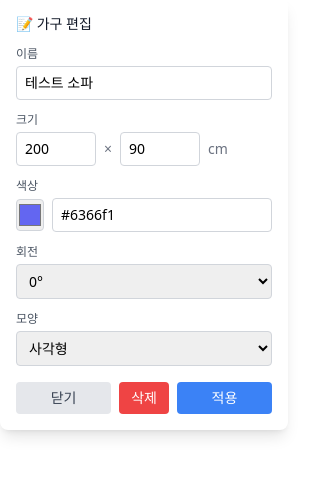
Test case: FurnitureEditForm 컴포넌트 › 0 이하 크기 입력 시 에러 표시
The image size is (320, 484).
Replace the text in the 1st number field with "0": point(56, 149) left=16, top=132, right=96, bottom=166
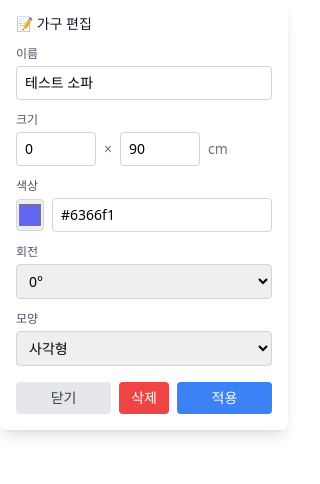
Click the button "적용": point(224, 398) left=177, top=382, right=272, bottom=414
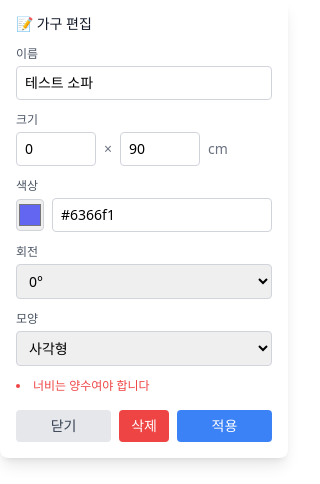
Now the text "너비는 양수여야 합니다" is shown, box left=33, top=377, right=150, bottom=394
